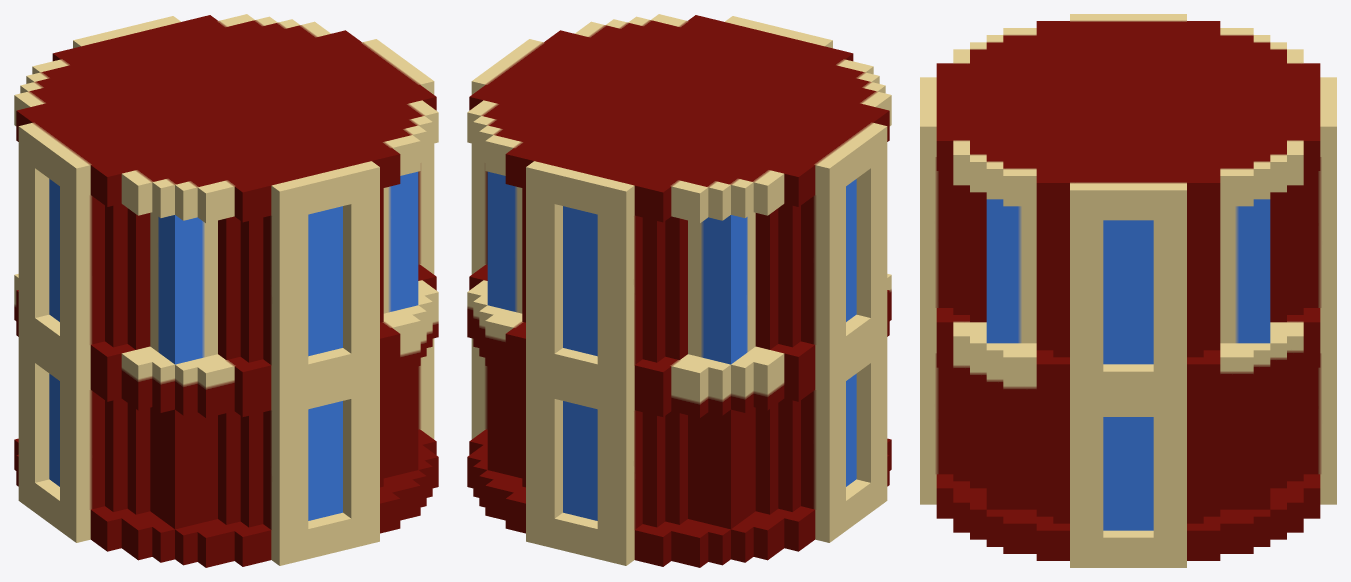
The model's file is fourthModel(red).fbx.
3 views of the same model, side by side, from view 1: azimuth 30°, elevation 25°; view 2: azimuth 150°, elevation 25°; view 3: azimuth 270°, elevation 25° (orthographic).
Parts seen in each view (by area): view 1: Cylinder; view 2: Cylinder; view 3: Cylinder.
Part boxes in pixels (x1=…): Cylinder: x1=14, y1=14, x2=438, y2=567; Cylinder: x1=467, y1=14, x2=891, y2=567; Cylinder: x1=920, y1=14, x2=1336, y2=567.
Size of the model in its own units: 25 by 25 by 25.
Materials: 1 (1 with a texture image).
